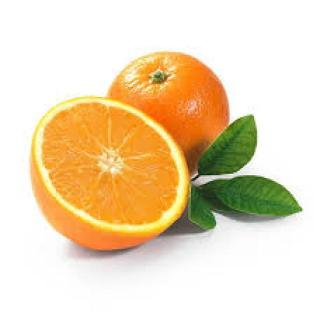orange: (31, 95, 201, 273), (103, 56, 246, 174)
